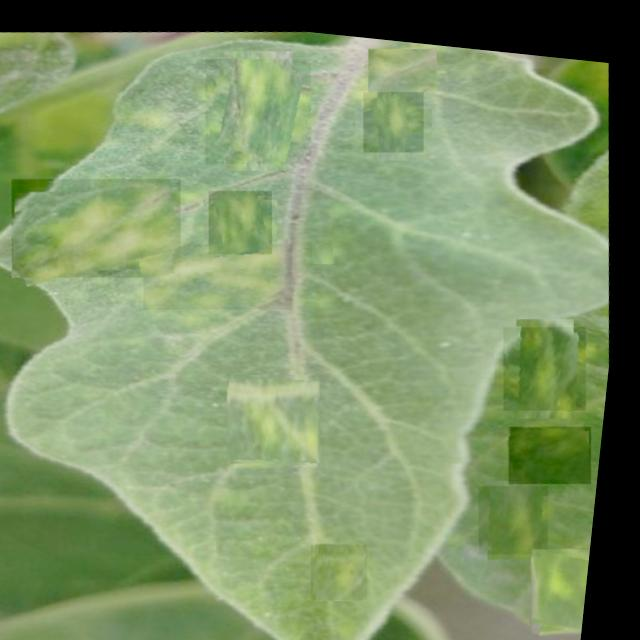leaf_spot: (7, 160, 194, 290), (198, 44, 322, 167), (143, 225, 303, 317), (229, 363, 334, 467), (502, 306, 600, 405), (511, 406, 605, 478), (482, 467, 564, 548), (535, 528, 601, 624), (207, 179, 281, 254), (359, 77, 431, 148), (317, 530, 383, 596), (365, 33, 441, 89), (315, 234, 340, 258)
